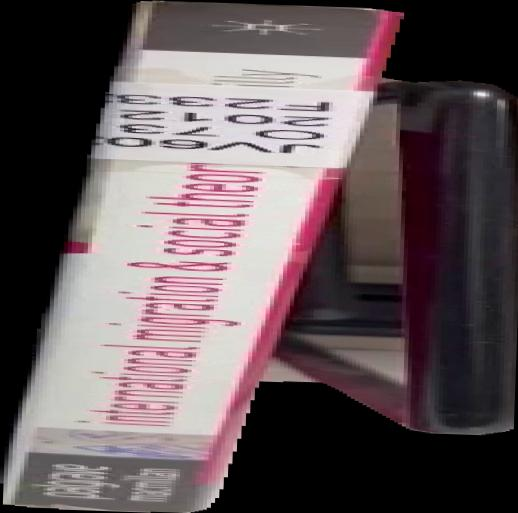reverse: (1, 1, 518, 513)
